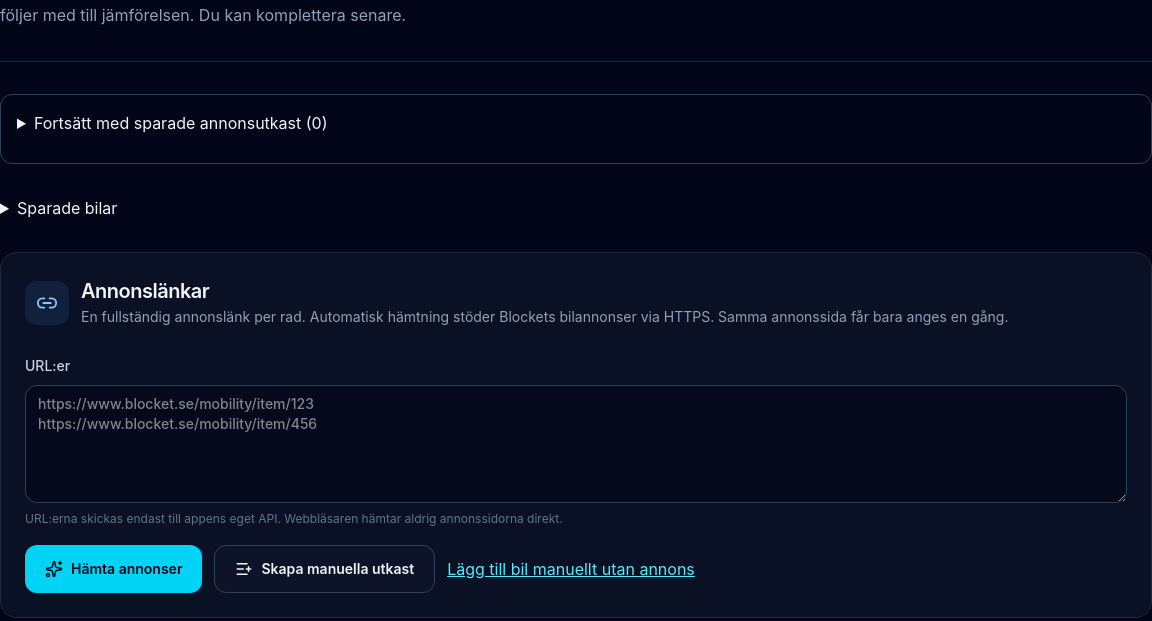
Swedish URL analysis workspace › prepares committed analysis results without waiting for a browser paint
Click the text box labelled "URL:er": (576, 444) [25,385,1127,503]
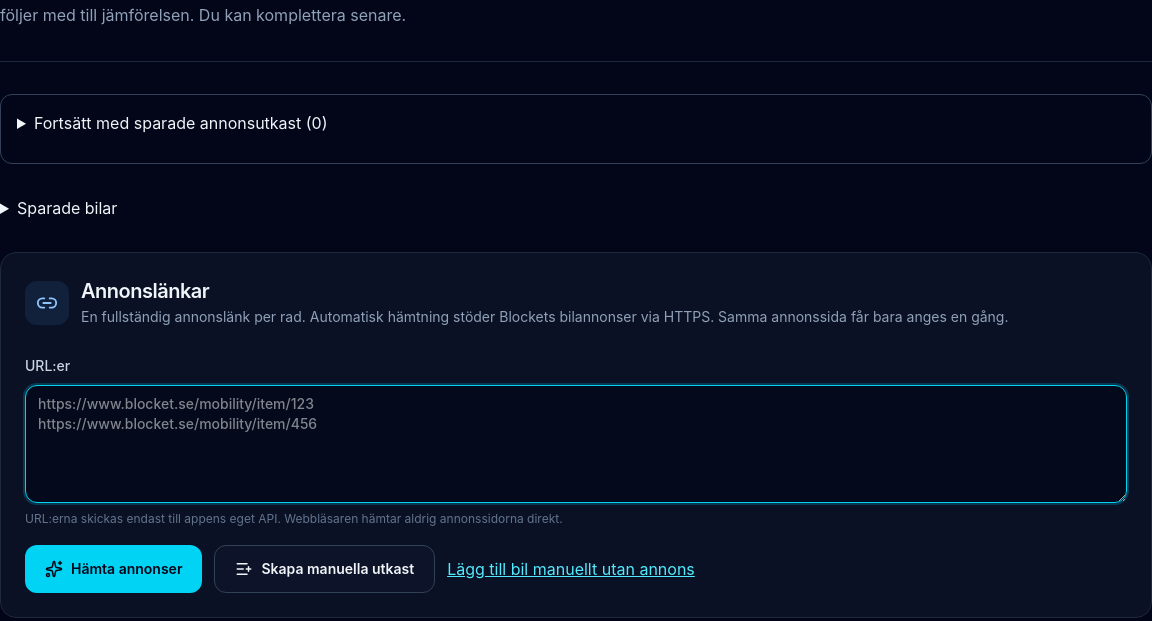
Type keys "https://cars.example/item/1"
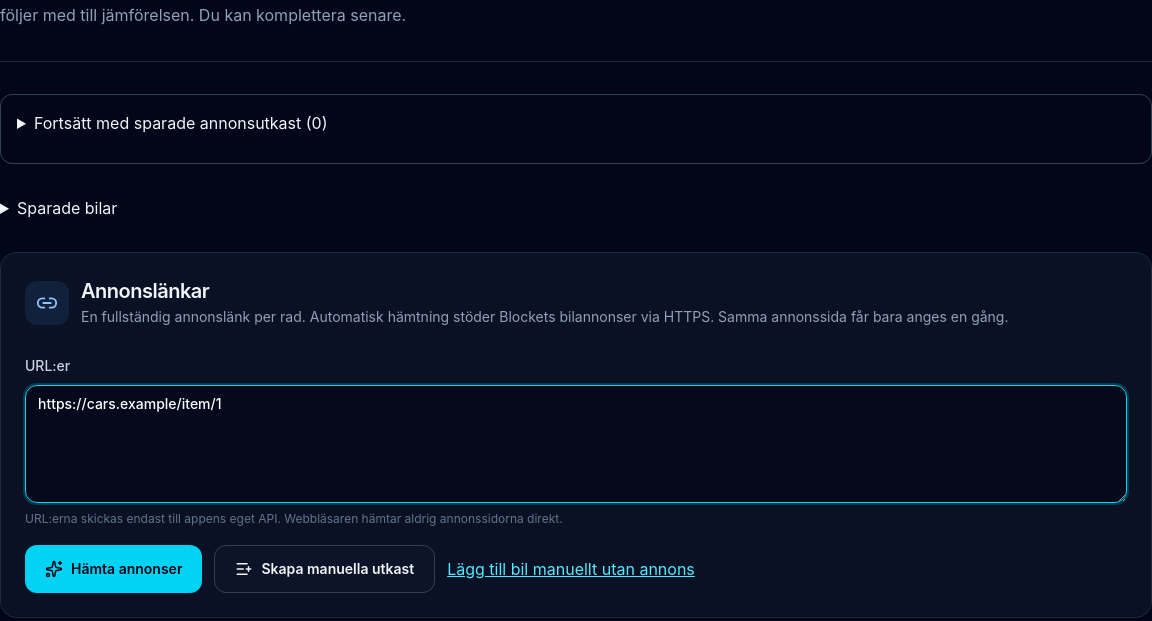
Click the button "Hämta annonser": (114, 569) [25,545,202,593]
(page scrolled)
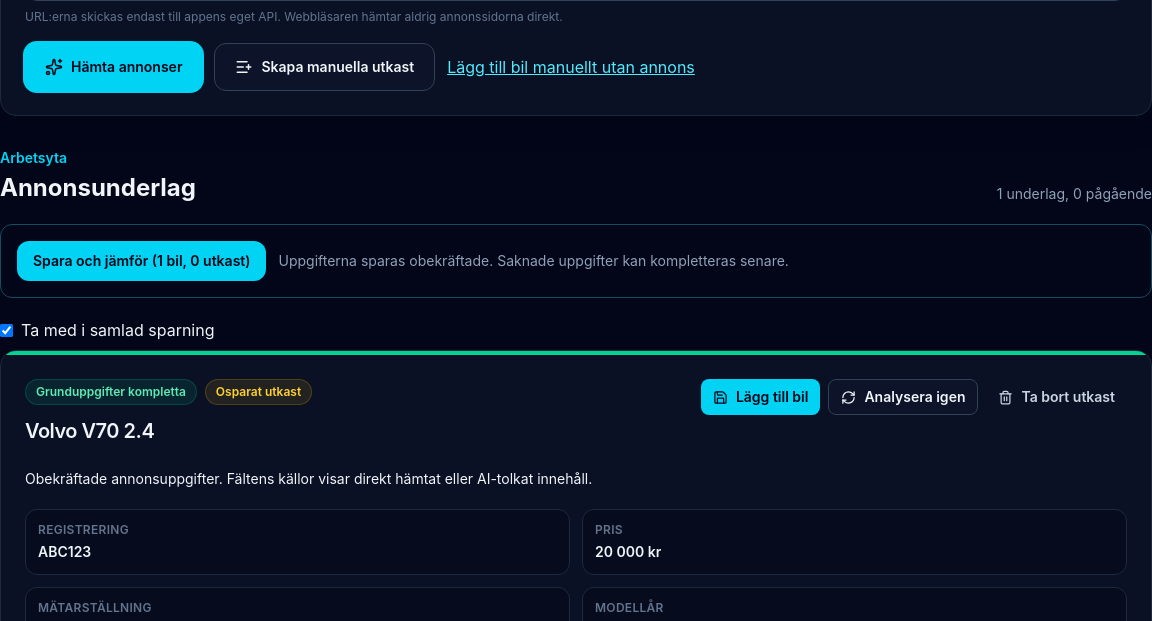
Expected: the button "Spara och jämför (1 bil, 0 utkast)" is enabled, [17,241,266,281]
